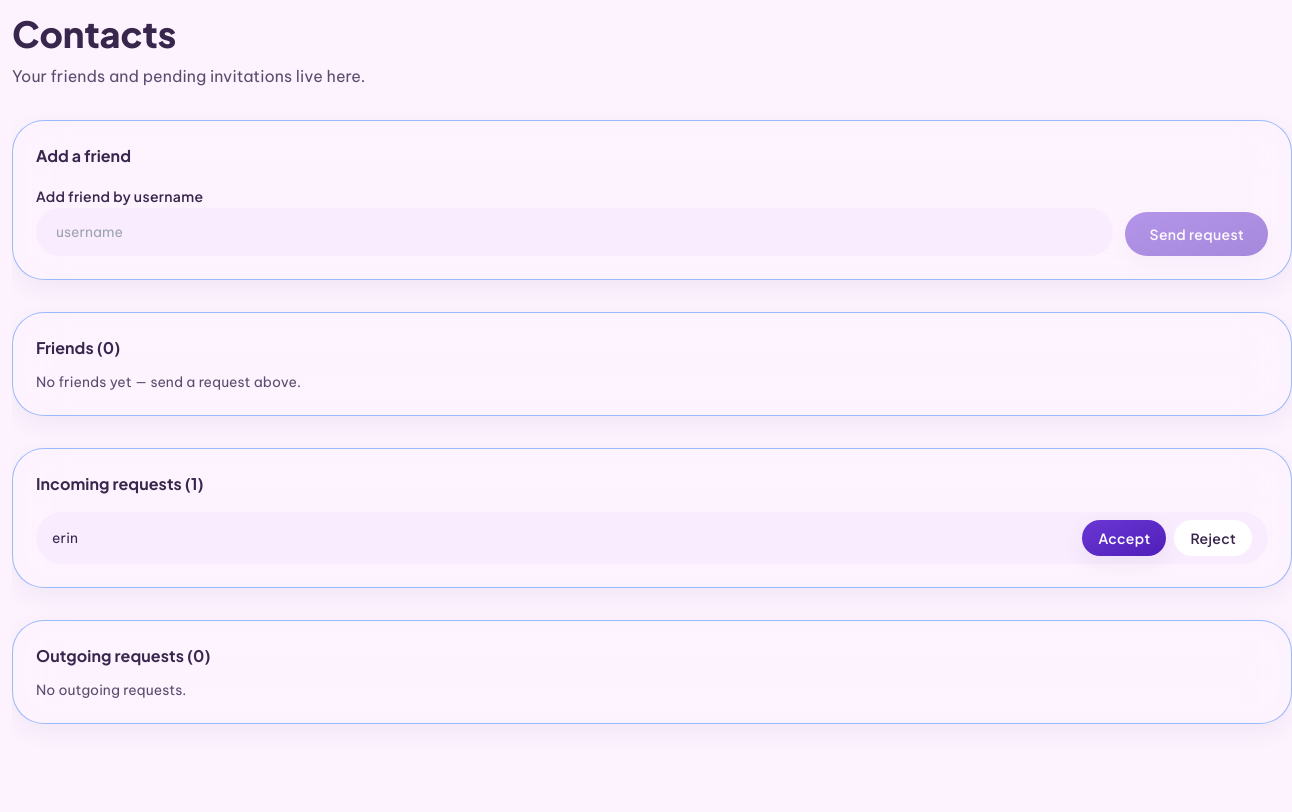
Test case: <ContactsRoute /> (/contacts) › rejects an incoming request via POST /api/v1/friends/requests/:id/reject
Expected: the text "erin" is shown, [52,528,78,548]
Click the button "Reject": (1213, 538) [1174,520,1252,556]
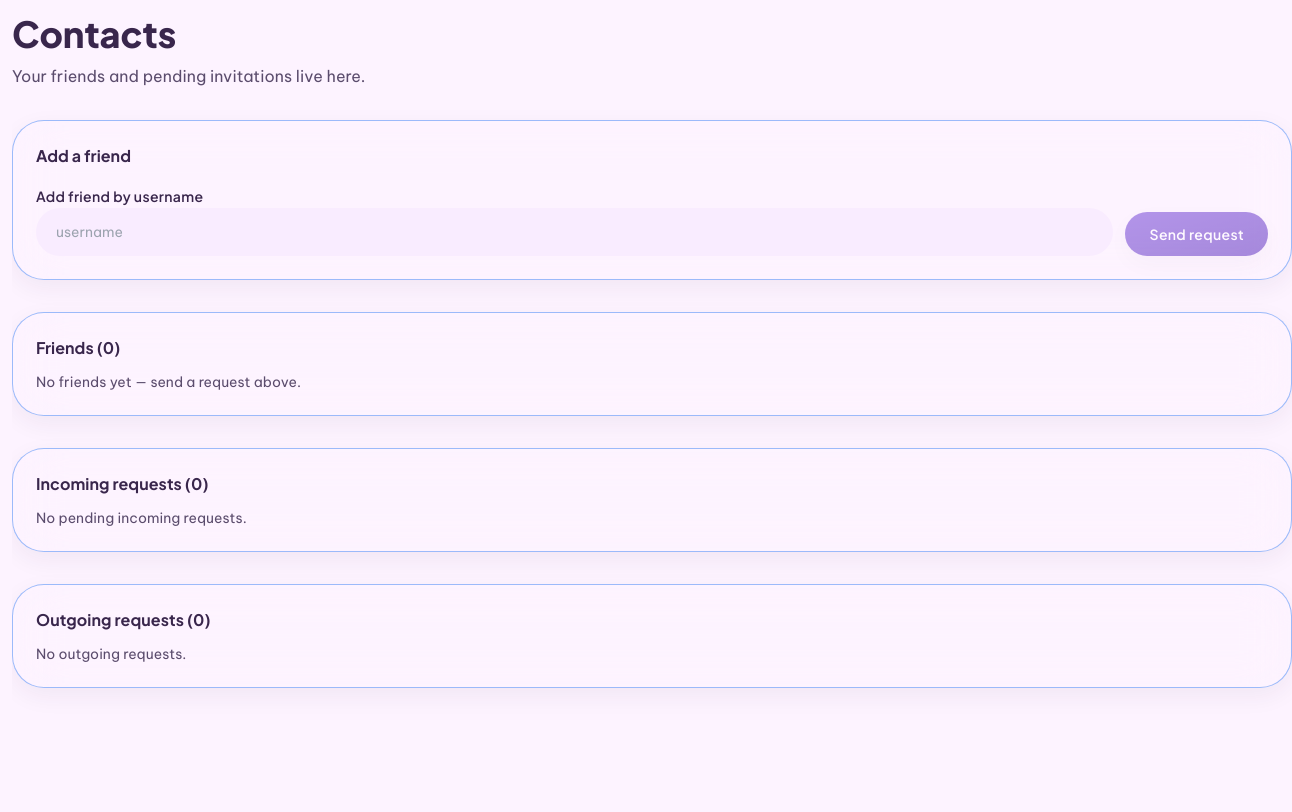
Now the text "erin" is gone
